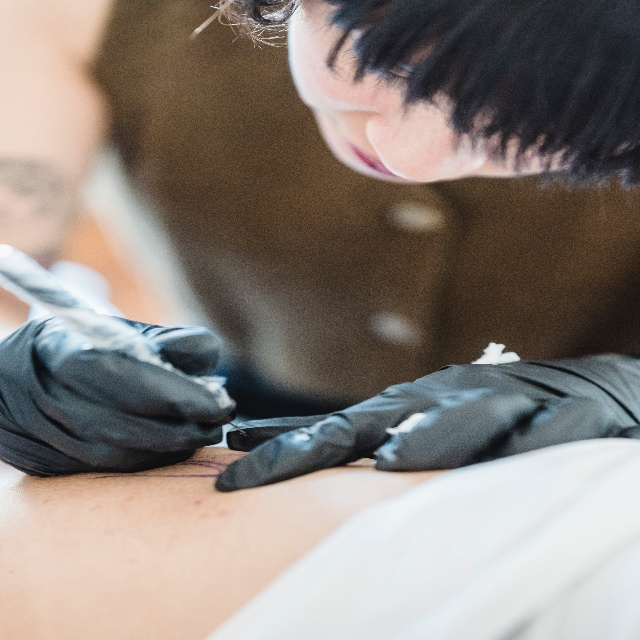Guantes: (214, 369, 633, 492), (0, 309, 238, 472)
